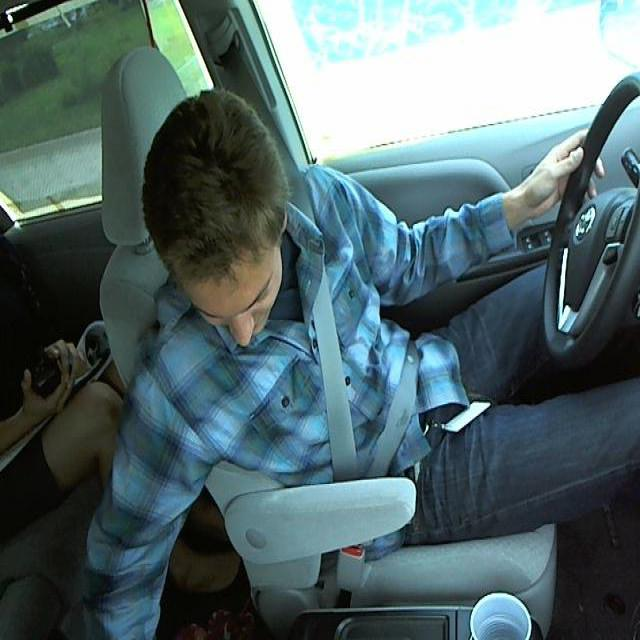seatbelt: (295, 241, 438, 483)
